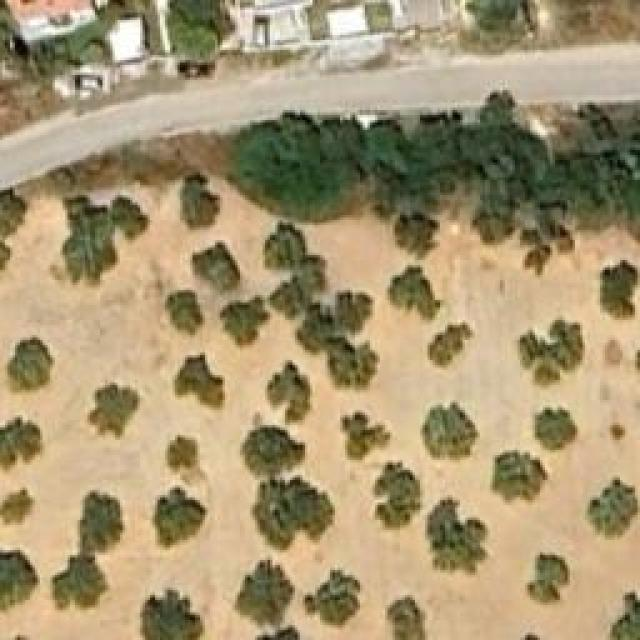Tree: (230, 122, 355, 218), (540, 150, 637, 232), (63, 195, 148, 285), (255, 475, 335, 548), (425, 497, 493, 575), (518, 320, 583, 388), (233, 557, 293, 625), (153, 485, 208, 550), (585, 475, 640, 540), (388, 265, 448, 323), (420, 403, 478, 463), (305, 567, 363, 625), (370, 463, 420, 528), (490, 450, 548, 505), (173, 353, 226, 413), (88, 380, 141, 440), (78, 490, 128, 553), (410, 108, 462, 168), (50, 550, 103, 608), (143, 590, 203, 640), (268, 360, 313, 425), (3, 335, 53, 393), (245, 427, 305, 475), (328, 338, 380, 390), (600, 260, 640, 323), (525, 550, 570, 605), (360, 115, 407, 167), (220, 297, 270, 345), (165, 18, 220, 61), (263, 218, 305, 272), (342, 413, 390, 458), (392, 213, 440, 258), (467, 0, 534, 32), (0, 417, 42, 467), (428, 323, 473, 366), (533, 408, 578, 451), (190, 245, 235, 288), (165, 290, 205, 338), (333, 287, 372, 333), (460, 97, 498, 144), (387, 595, 425, 640), (183, 177, 218, 225), (0, 553, 28, 608), (610, 592, 640, 640), (0, 490, 40, 525), (0, 187, 28, 235), (297, 313, 329, 354), (268, 285, 303, 320), (297, 257, 330, 291), (170, 438, 195, 468), (605, 340, 623, 365), (610, 425, 628, 440)
